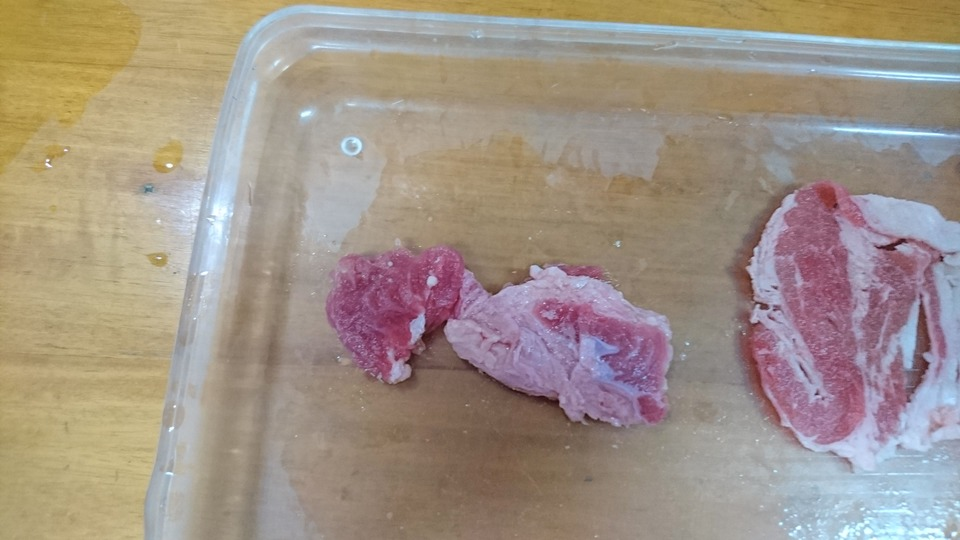restructured meat: (324, 244, 680, 429), (740, 177, 960, 476)
